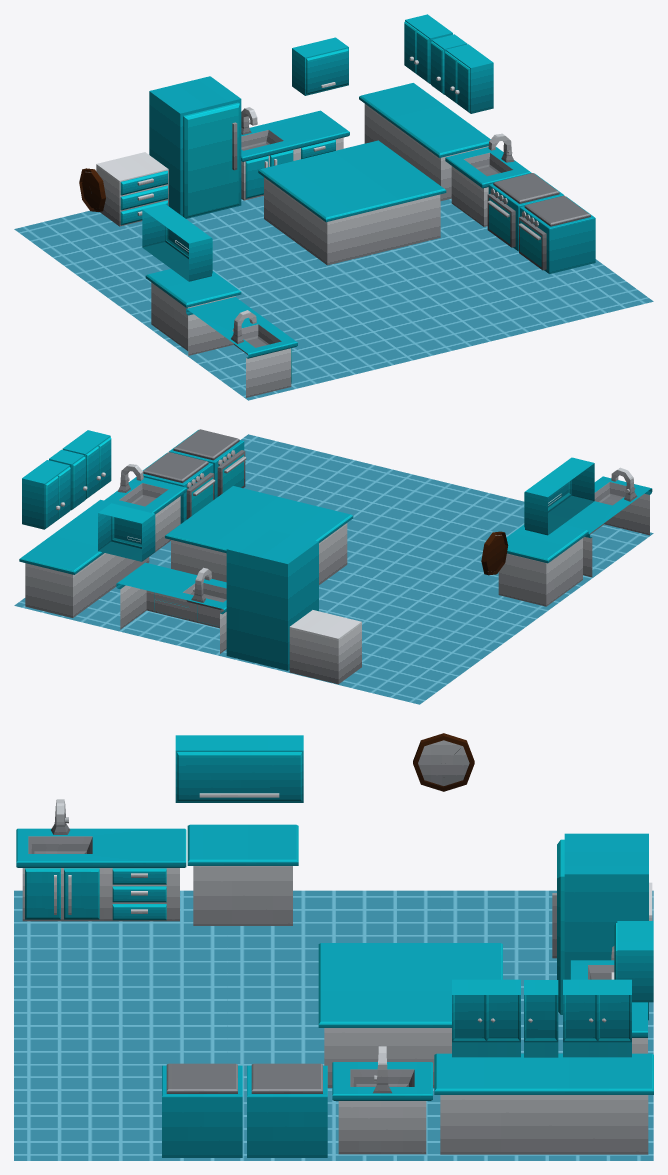
Rendered from s1_Kitchen_v2.fbx.
3 views of the same model, one above another, from view 1: azimuth 30°, elevation 25°; view 2: azimuth 150°, elevation 25°; view 3: azimuth 270°, elevation 25° (orthographic). The views are drawn at different scales.
Parts seen in each view (by area): view 1: s1_Kitchen_v2; view 2: s1_Kitchen_v2; view 3: s1_Kitchen_v2.
Part boxes in pixels (left/top/right/bottom): s1_Kitchen_v2: left=14, top=14, right=653, bottom=400; s1_Kitchen_v2: left=14, top=429, right=653, bottom=704; s1_Kitchen_v2: left=14, top=733, right=653, bottom=1160.
Size of the model in its own units: 901 by 258 by 900.
